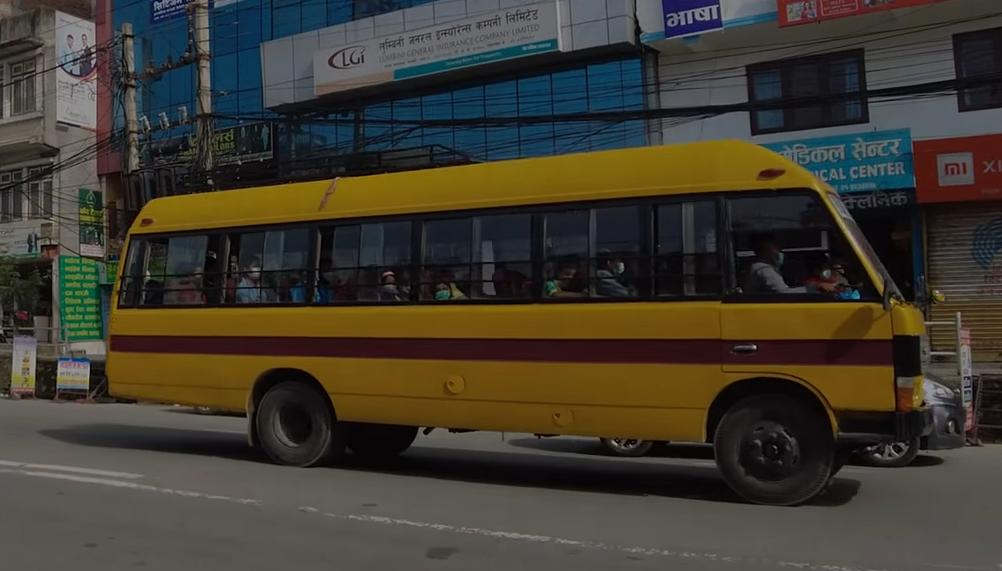school_bus: (102, 131, 942, 499)
